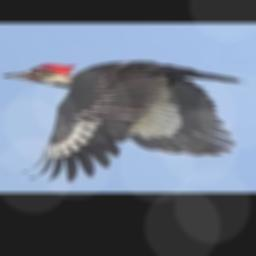Woodpecker: (4, 60, 250, 182)
